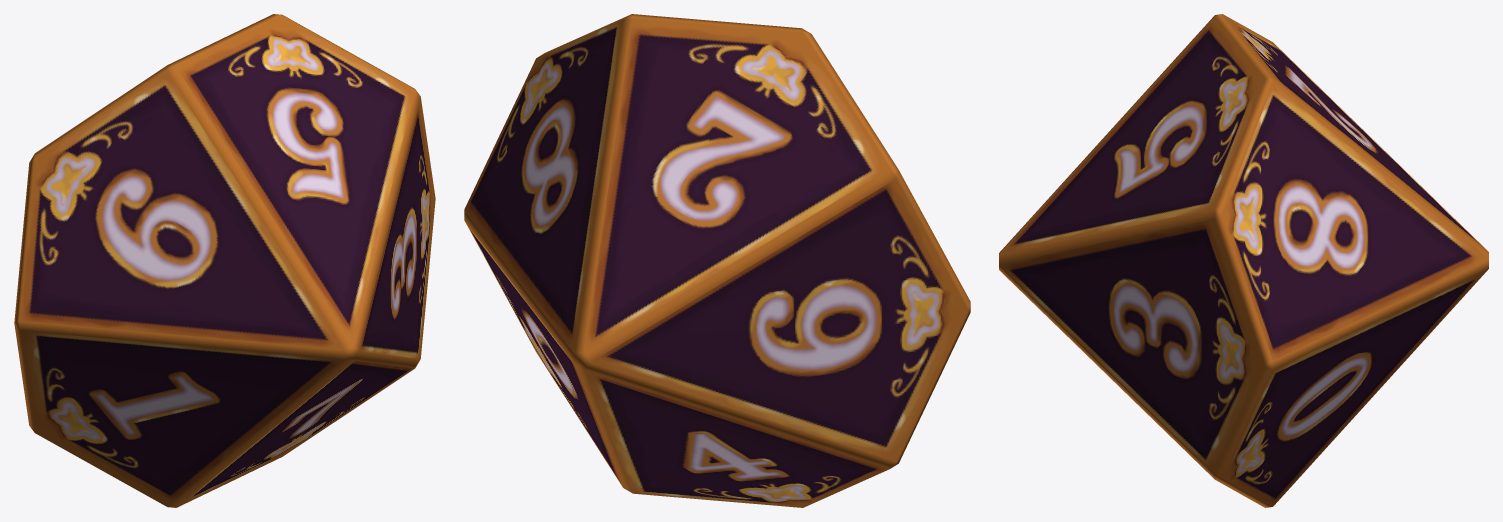
Rendered from d10-urikV2.glb.
The picture shows the model from 3 angles, left to right: view 1: azimuth 30°, elevation 25°; view 2: azimuth 150°, elevation 25°; view 3: azimuth 270°, elevation 25°; orthographic projection. The views are drawn at different scales.
Visible parts, largest first — view 1: Mesh_0; view 2: Mesh_0; view 3: Mesh_0.
Part boxes in pixels (<box>): Mesh_0: <box>14,14,435,507</box>; Mesh_0: <box>464,14,970,507</box>; Mesh_0: <box>999,14,1488,507</box>.
Size of the model in its own units: 175 by 166 by 172.
Materials: 1 (1 with a texture image).
